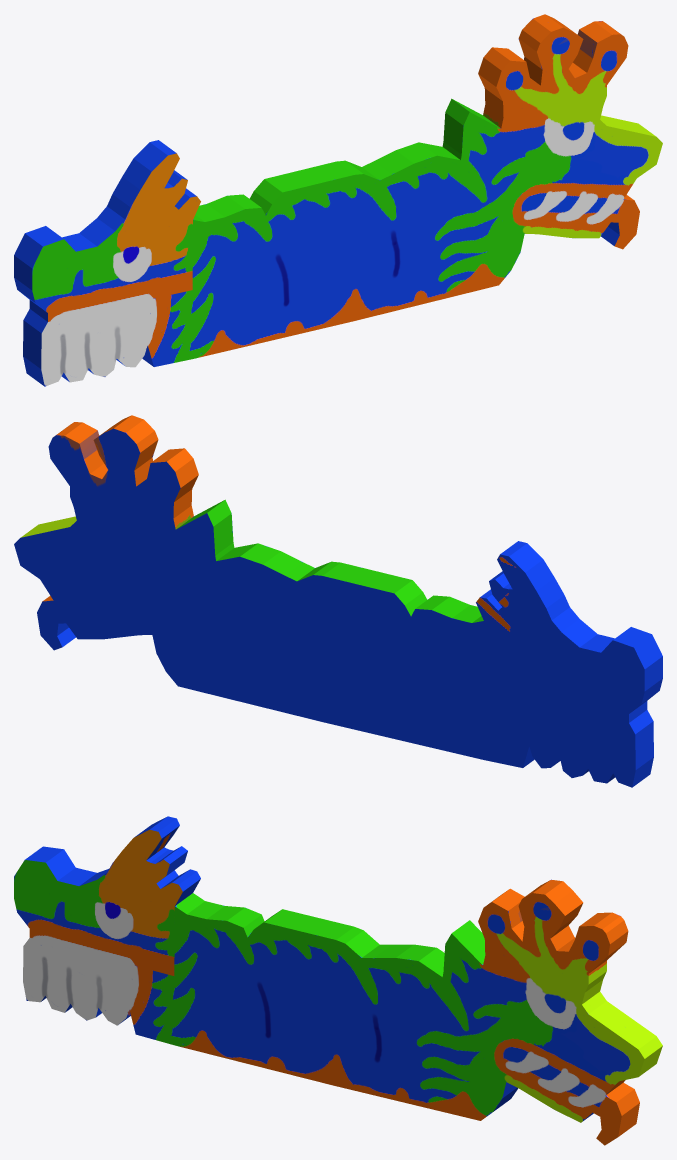
File: SerpienteEsc.obj
3 renders of one model, top to bottom at view 1: azimuth 30°, elevation 25°; view 2: azimuth 150°, elevation 25°; view 3: azimuth 330°, elevation 25°, orthographic.
Parts seen in each view (by area): view 1: Plane; view 2: Plane; view 3: Plane.
Boxes of the visible parts, <box> form: Plane: <box>14,14,662,386</box>; Plane: <box>14,415,662,787</box>; Plane: <box>14,816,662,1145</box>.
Bounding box in the file's own units: 8.02 × 2.95 × 0.4019.
Materials: 1 (1 with a texture image).
